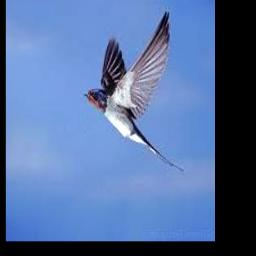Swallow: (85, 10, 184, 171)
